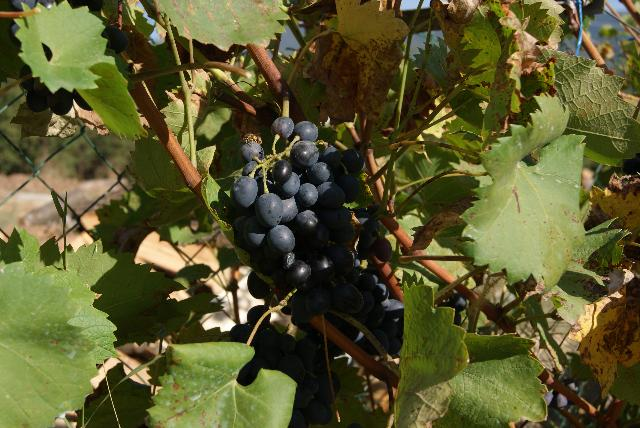grapes: (230, 116, 364, 308), (342, 290, 402, 354)
